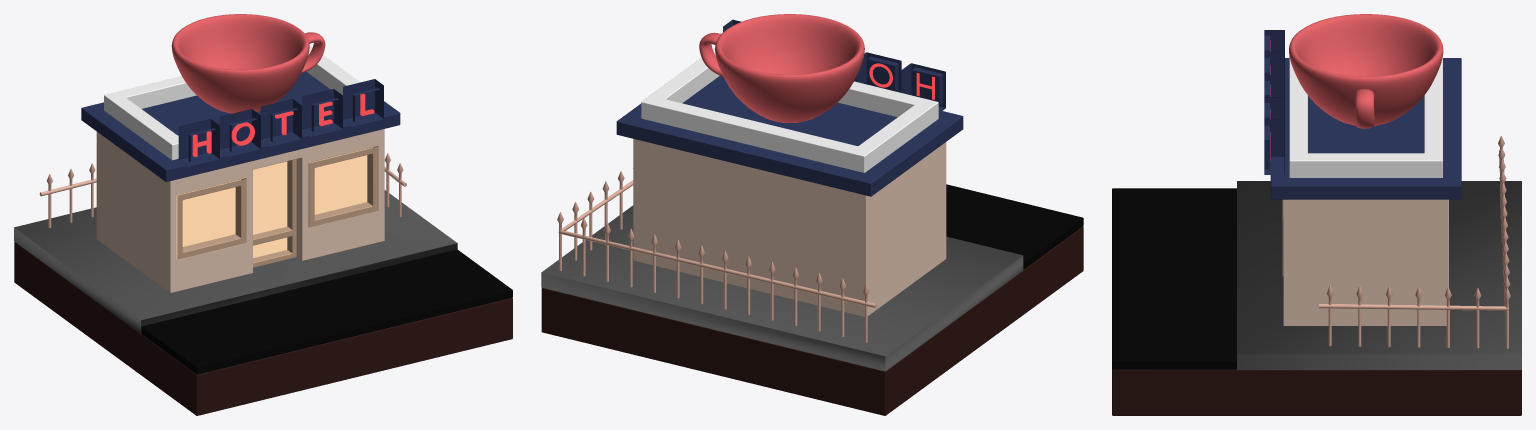
Rendered from EditorFinal.glb.
3 renders of one model, left to right at view 1: azimuth 30°, elevation 25°; view 2: azimuth 150°, elevation 25°; view 3: azimuth 270°, elevation 25°, orthographic. The views are drawn at different scales.
Parts seen in each view (by area): view 1: Plane, Plane001, Plane004_1, Plane002, Circle, Plane004_2, Plane005, Plane006, Windows, Door, Plane007, Plane011 (+4 smaller); view 2: Plane004_1, Plane002, Plane, Circle, Plane005, Plane006, Plane001, Plane010, Plane009, Plane003, Plane004; view 3: Plane002, Plane001, Plane004_1, Plane, Circle, Plane005, Plane006, Plane010, Plane011, Plane009, Plane003, Plane004 (+2 smaller).
Part boxes in pixels (x1,y1,x2,y2): Plane: (14, 242, 512, 415); Plane001: (141, 249, 512, 374); Plane004_1: (96, 129, 384, 292); Plane002: (14, 190, 457, 334); Circle: (171, 14, 325, 113); Plane004_2: (176, 147, 372, 257); Plane005: (81, 71, 400, 181); Plane006: (104, 45, 360, 160); Windows: (177, 146, 378, 259); Door: (253, 159, 296, 267); Plane007: (260, 99, 301, 146); Plane011: (343, 79, 383, 126); Plane004_1: (633, 139, 946, 316); Plane002: (541, 205, 1023, 371); Plane: (541, 226, 1083, 415); Circle: (699, 14, 864, 122); Plane005: (616, 76, 963, 196); Plane006: (641, 48, 938, 172); Plane001: (946, 184, 1083, 269); Plane010: (557, 168, 869, 342); Plane009: (558, 180, 877, 308); Plane003: (901, 63, 945, 113); Plane004: (856, 52, 901, 92); Plane002: (1237, 181, 1521, 369); Plane001: (1112, 188, 1236, 369); Plane004_1: (1283, 199, 1448, 325); Plane: (1112, 369, 1521, 415); Circle: (1289, 14, 1443, 128); Plane005: (1270, 58, 1461, 199); Plane006: (1289, 56, 1442, 177); Plane010: (1326, 135, 1510, 348); Plane011: (1264, 119, 1284, 174); Plane009: (1319, 150, 1508, 310); Plane003: (1264, 30, 1284, 52); Plane004: (1264, 52, 1284, 74).
Size of what is drawn, in the model's own units: 8 by 6.11 by 8.
Materials: 11 (1 with a texture image).
